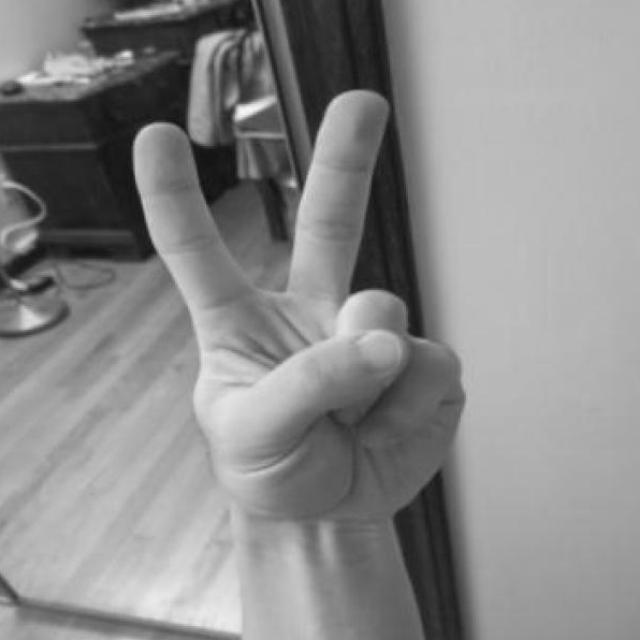V: (118, 77, 476, 640)
